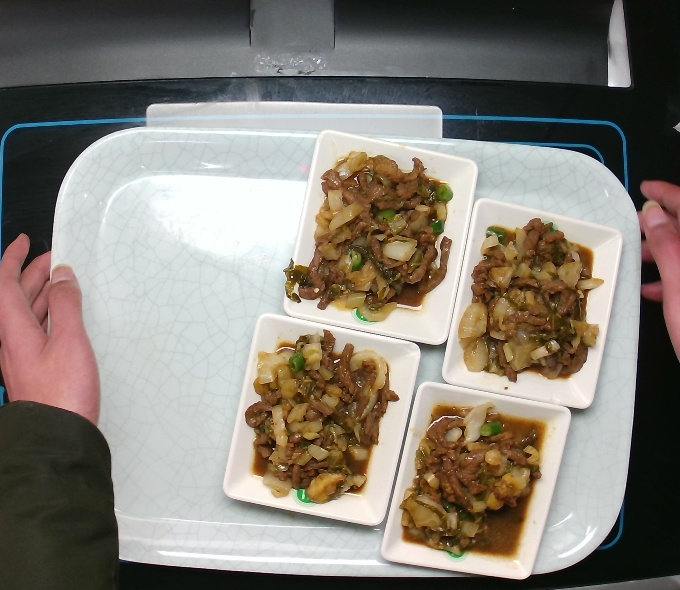wcq-PaoCaiNiuRou: (383, 387, 545, 566), (236, 330, 398, 509), (444, 210, 606, 389), (298, 152, 460, 331)
